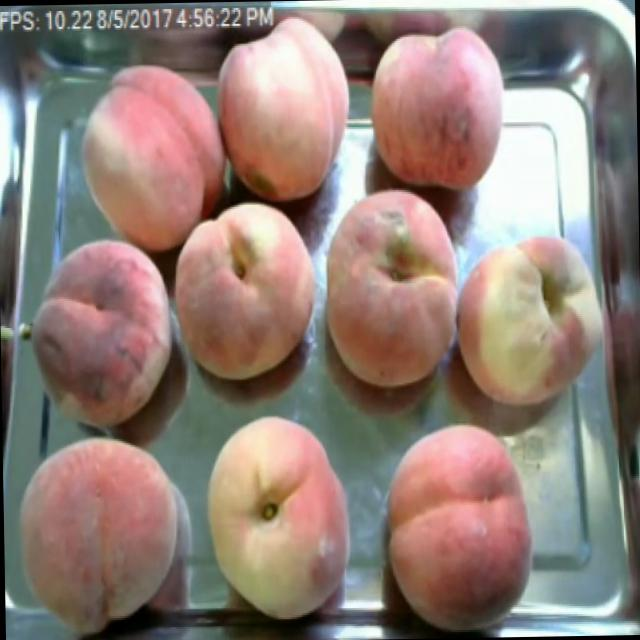Fruit: (3, 414, 205, 640), (178, 398, 368, 634), (12, 223, 190, 452), (371, 414, 547, 638), (311, 174, 461, 403), (168, 188, 330, 400), (72, 51, 226, 262), (450, 222, 610, 422), (359, 15, 518, 206), (214, 11, 360, 212)
